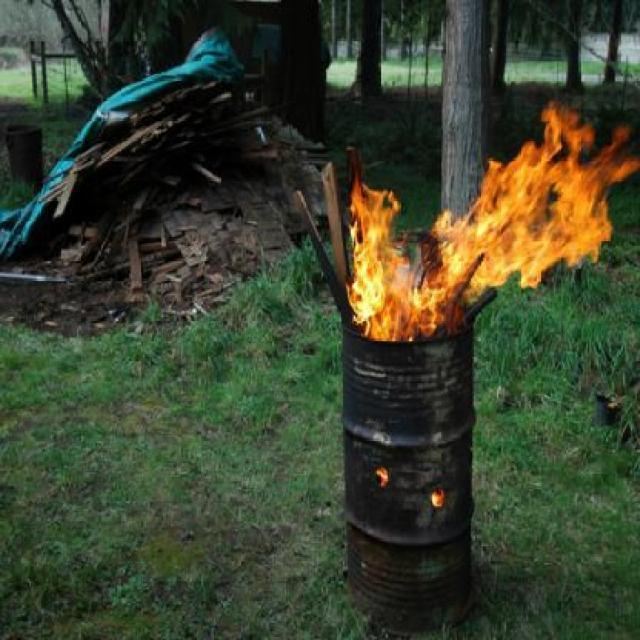fire: (484, 110, 640, 291), (351, 190, 406, 340), (422, 215, 473, 330)
